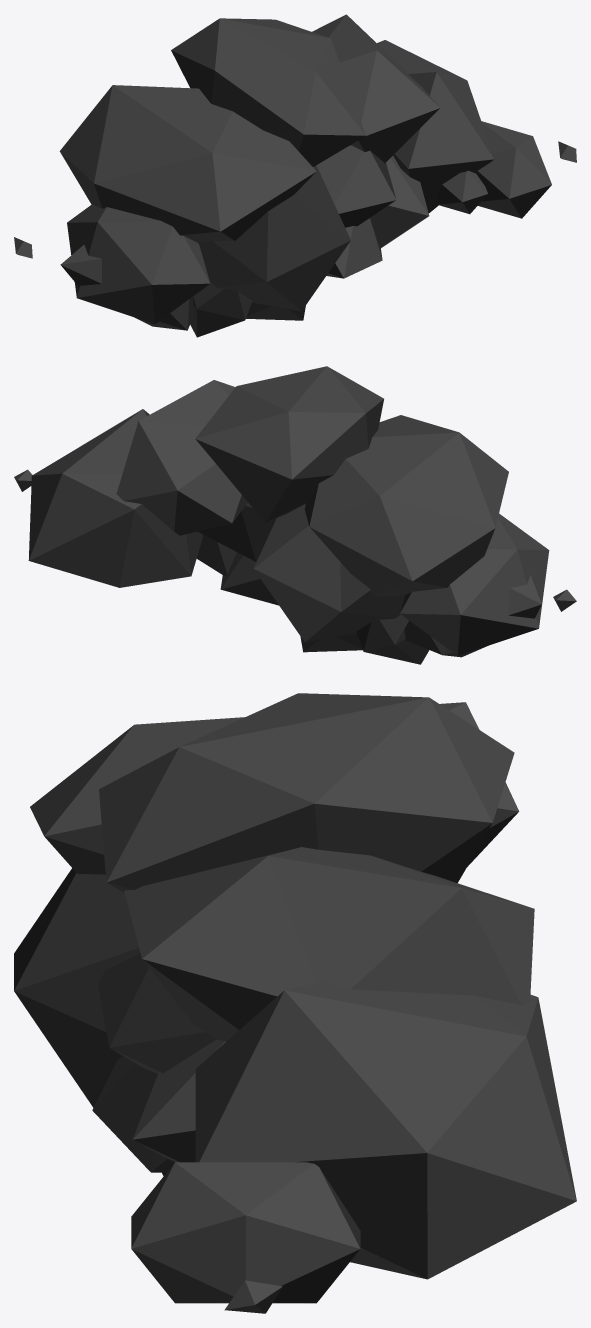
File: Cloud3_Alt2.fbx
3 views of the same model, one above another, from view 1: azimuth 30°, elevation 25°; view 2: azimuth 150°, elevation 25°; view 3: azimuth 270°, elevation 25° (orthographic). The views are drawn at different scales.
Visible parts, largest first — view 1: Cloud3_Alt2; view 2: Cloud3_Alt2; view 3: Cloud3_Alt2.
Part boxes in pixels (x1,y1,x2,y2): Cloud3_Alt2: (14, 14, 576, 337); Cloud3_Alt2: (14, 366, 576, 664); Cloud3_Alt2: (14, 693, 576, 1313).
Size of the model in its own units: 2.59 by 1.18 by 1.22.
